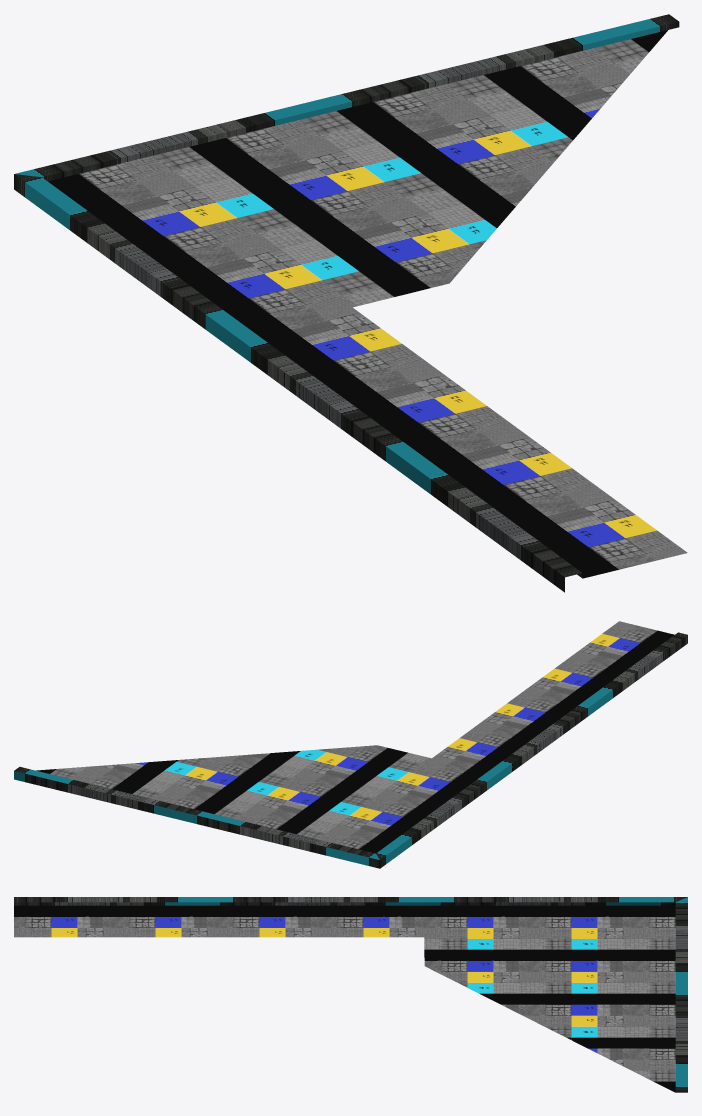
The model's file is downtown_sidewalk_8.fbx.
3 views of the same model, one above another, from view 1: azimuth 30°, elevation 25°; view 2: azimuth 150°, elevation 25°; view 3: azimuth 270°, elevation 25° (orthographic). The views are drawn at different scales.
Visible parts, largest first — view 1: downtown_curb_1; view 2: downtown_curb_1; view 3: downtown_curb_1.
Boxes of the visible parts, x1=… form: downtown_curb_1: x1=14, y1=14, x2=687, y2=592; downtown_curb_1: x1=14, y1=621, x2=687, y2=868; downtown_curb_1: x1=14, y1=897, x2=687, y2=1092.
Size of the model in its own units: 667 by 15 by 972.
